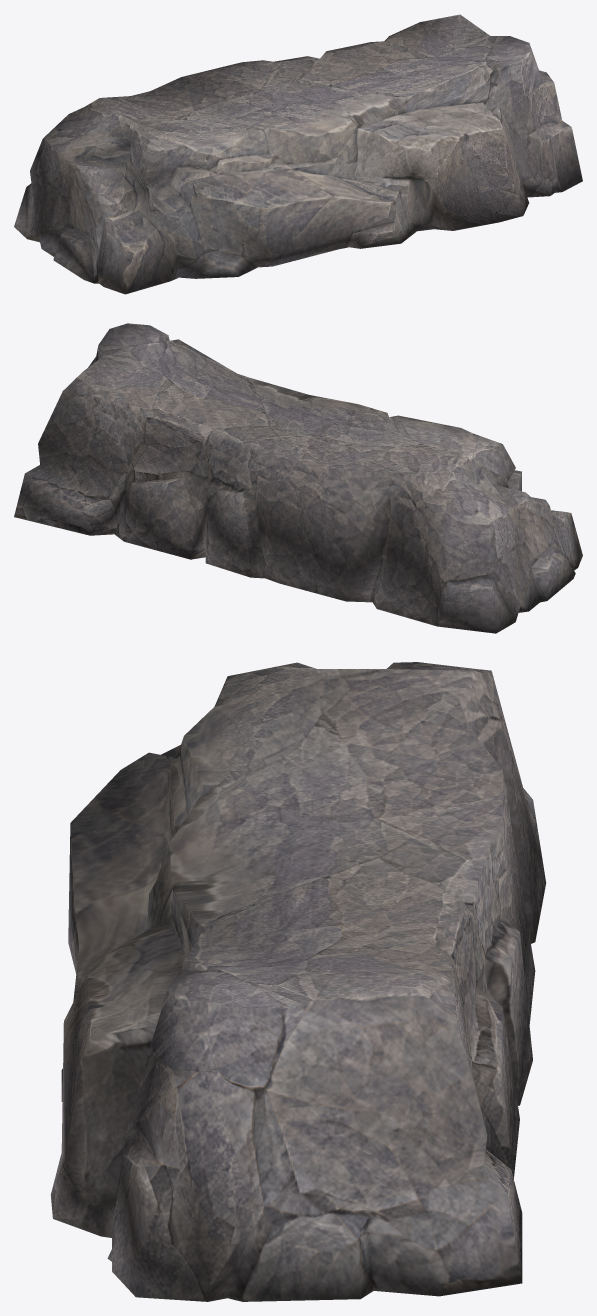
The model's file is rock_c.glb.
3 renders of one model, top to bottom at view 1: azimuth 30°, elevation 25°; view 2: azimuth 150°, elevation 25°; view 3: azimuth 270°, elevation 25°, orthographic. The views are drawn at different scales.
Parts seen in each view (by area): view 1: tripo_node_29f22245-9fb8-42a3-ac59-4de6fa786c3c; view 2: tripo_node_29f22245-9fb8-42a3-ac59-4de6fa786c3c; view 3: tripo_node_29f22245-9fb8-42a3-ac59-4de6fa786c3c.
Part boxes in pixels (x1,y1,x2,y2): tripo_node_29f22245-9fb8-42a3-ac59-4de6fa786c3c: (14,14,582,294); tripo_node_29f22245-9fb8-42a3-ac59-4de6fa786c3c: (14,323,582,633); tripo_node_29f22245-9fb8-42a3-ac59-4de6fa786c3c: (50,662,546,1301).
Bounding box in the file's own units: 0.998 × 0.2559 × 0.4434.
1 material, 1 textured.
